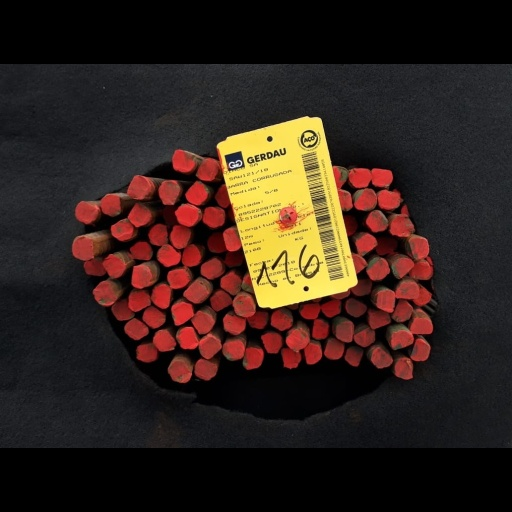dipstick: (74, 201, 100, 224), (127, 175, 151, 199), (71, 235, 94, 260), (93, 281, 116, 306), (128, 203, 152, 226), (103, 254, 126, 278), (191, 311, 215, 334), (183, 281, 208, 303), (286, 328, 309, 351), (366, 257, 389, 280), (355, 233, 378, 256), (185, 180, 207, 204), (175, 204, 199, 226), (157, 244, 181, 266), (142, 306, 166, 328), (168, 361, 192, 383), (172, 149, 195, 171), (196, 158, 218, 181), (171, 302, 193, 325), (199, 335, 221, 358), (390, 214, 413, 236), (366, 210, 389, 232), (354, 188, 377, 210), (159, 180, 180, 204), (170, 224, 191, 248), (124, 318, 148, 339), (152, 330, 176, 351), (406, 238, 430, 259), (111, 218, 133, 240), (176, 327, 198, 349), (220, 273, 242, 295), (194, 359, 217, 380), (222, 314, 245, 335), (374, 289, 395, 312), (100, 194, 121, 216), (131, 266, 152, 288), (112, 299, 134, 320), (233, 296, 255, 317), (210, 290, 232, 311), (200, 258, 222, 279), (128, 291, 151, 311), (390, 330, 413, 350), (410, 338, 430, 361), (391, 258, 414, 278), (151, 284, 170, 308), (371, 347, 392, 368), (148, 224, 168, 246), (222, 340, 244, 360), (243, 347, 263, 369), (202, 207, 224, 227), (270, 310, 292, 330), (392, 300, 412, 322), (409, 259, 431, 279), (167, 269, 190, 288), (324, 338, 344, 359), (223, 229, 242, 251), (349, 168, 371, 187), (378, 190, 400, 209), (396, 282, 419, 300), (214, 184, 231, 208), (261, 333, 281, 353), (281, 348, 301, 368), (136, 343, 157, 362), (247, 310, 268, 329), (394, 358, 413, 379), (354, 327, 375, 346), (346, 298, 367, 317), (369, 310, 390, 329), (182, 244, 200, 266), (304, 343, 322, 365), (371, 168, 393, 186), (129, 242, 152, 259), (410, 317, 433, 334), (333, 166, 349, 190), (335, 321, 353, 342), (207, 232, 225, 252), (84, 259, 105, 276), (351, 278, 372, 295), (300, 302, 320, 319), (312, 319, 329, 339), (345, 346, 362, 366), (322, 299, 340, 317), (414, 287, 431, 306), (338, 189, 352, 211), (242, 273, 254, 294)
